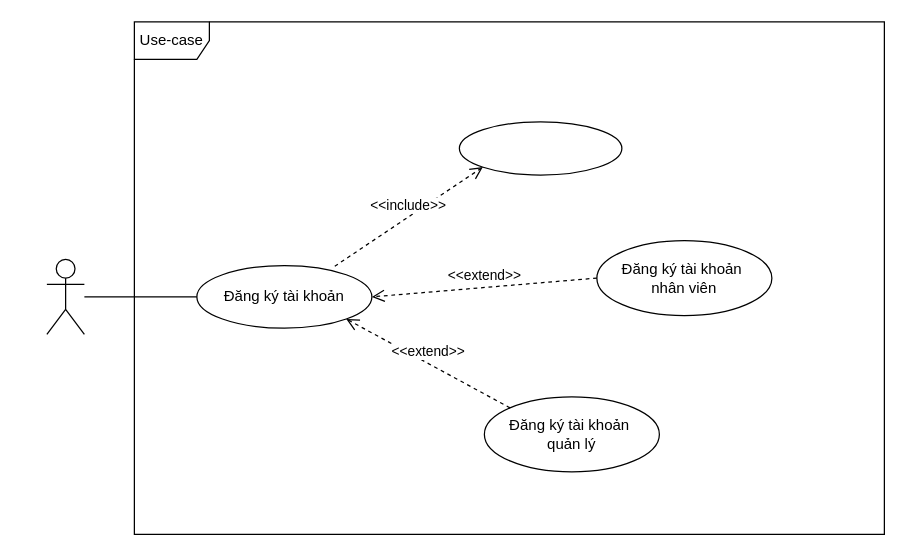
Image size: 906x556. Some labels were removed from this diagram. The shapes that lost their labels are listed below. From the top down, each one's box as (x1, y1, x2, y2) in pixels, then its label:
(458, 121, 622, 175): Đăng nhập
(46, 258, 84, 334): Administrator
